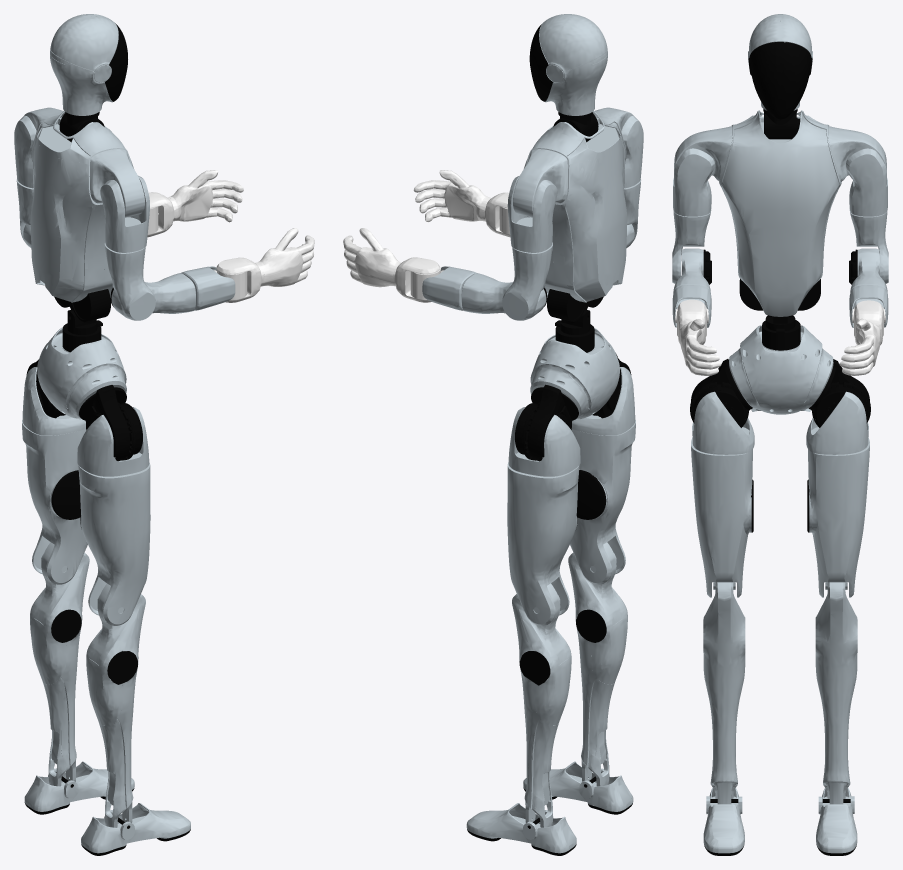
The picture shows the model from 3 angles, left to right: view 1: azimuth 30°, elevation 25°; view 2: azimuth 150°, elevation 25°; view 3: azimuth 270°, elevation 25°; orthographic projection.
Visible parts, largest first — view 1: torso_link_mesh, right_hip_yaw_link_mesh, right_knee_link_mesh, left_knee_link_mesh, left_hip_yaw_link_mesh, head_yaw_link, pelvis_mesh, right_ankle_pitch_link, right_hip_pitch_link_mesh, left_hand_link, right_hip_roll_link_mesh, left_ankle_pitch_link (+12 smaller); view 2: torso_link_mesh, left_hip_yaw_link_mesh, left_knee_link_mesh, right_knee_link_mesh, right_hip_yaw_link_mesh, head_yaw_link, pelvis_mesh, left_ankle_pitch_link, right_hand_link, left_hip_pitch_link_mesh, left_hip_roll_link_mesh, right_ankle_pitch_link (+12 smaller); view 3: torso_link_mesh, left_hip_yaw_link_mesh, right_hip_yaw_link_mesh, pelvis_mesh, left_knee_link_mesh, right_knee_link_mesh, head_yaw_link, left_hip_roll_link_mesh, right_hip_roll_link_mesh, left_shoulder_roll_link_mesh, right_shoulder_roll_link_mesh, right_ankle_pitch_link (+17 smaller).
Boxes of the visible parts, left/top/right/bottom form: torso_link_mesh: left=30, top=111, right=133, bottom=324; right_hip_yaw_link_mesh: left=78, top=462, right=150, bottom=625; right_knee_link_mesh: left=86, top=583, right=145, bottom=827; left_knee_link_mesh: left=30, top=542, right=89, bottom=786; left_hip_yaw_link_mesh: left=22, top=420, right=87, bottom=584; head_yaw_link: left=50, top=14, right=127, bottom=115; pelvis_mesh: left=37, top=323, right=126, bottom=419; right_ankle_pitch_link: left=81, top=803, right=190, bottom=855; right_hip_pitch_link_mesh: left=79, top=385, right=142, bottom=461; left_hand_link: left=168, top=170, right=243, bottom=222; right_hip_roll_link_mesh: left=77, top=407, right=149, bottom=476; left_ankle_pitch_link: left=24, top=761, right=134, bottom=814; torso_link_mesh: left=524, top=111, right=627, bottom=324; left_hip_yaw_link_mesh: left=507, top=462, right=579, bottom=625; left_knee_link_mesh: left=512, top=583, right=571, bottom=827; right_knee_link_mesh: left=568, top=542, right=627, bottom=786; right_hip_yaw_link_mesh: left=570, top=420, right=635, bottom=584; head_yaw_link: left=529, top=14, right=607, bottom=115; pelvis_mesh: left=530, top=324, right=619, bottom=419; left_ankle_pitch_link: left=466, top=803, right=576, bottom=855; right_hand_link: left=413, top=170, right=491, bottom=221; left_hip_pitch_link_mesh: left=515, top=384, right=578, bottom=461; left_hip_roll_link_mesh: left=508, top=407, right=580, bottom=476; right_ankle_pitch_link: left=523, top=761, right=633, bottom=814; torso_link_mesh: left=719, top=110, right=841, bottom=316; left_hip_yaw_link_mesh: left=807, top=437, right=869, bottom=597; right_hip_yaw_link_mesh: left=691, top=437, right=753, bottom=597; pelvis_mesh: left=729, top=320, right=833, bottom=414; left_knee_link_mesh: left=815, top=582, right=857, bottom=804; right_knee_link_mesh: left=703, top=582, right=745, bottom=804; head_yaw_link: left=748, top=14, right=812, bottom=119; left_hip_roll_link_mesh: left=806, top=391, right=868, bottom=454; right_hip_roll_link_mesh: left=692, top=391, right=754, bottom=454; left_shoulder_roll_link_mesh: left=846, top=148, right=887, bottom=216; right_shoulder_roll_link_mesh: left=673, top=148, right=714, bottom=216; right_ankle_pitch_link: left=703, top=787, right=744, bottom=855.
Size of the model in its own units: 0.5607 by 1.83 by 0.4466.
